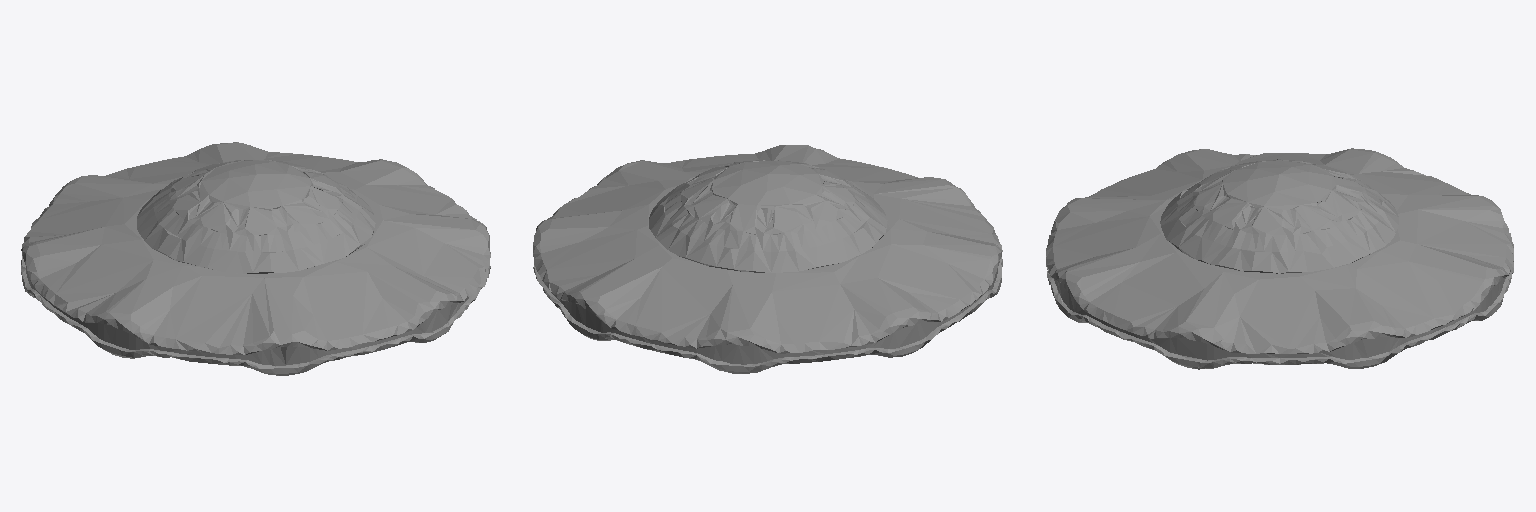
The model's file is frame_050.obj.
The picture shows the model from 3 angles: view 1: azimuth 30°, elevation 25°; view 2: azimuth 150°, elevation 25°; view 3: azimuth 270°, elevation 25°; orthographic projection.
Visible parts, largest first — view 1: 13884_UFO_Saucer_v1_l2; view 2: 13884_UFO_Saucer_v1_l2; view 3: 13884_UFO_Saucer_v1_l2.
Part boxes in pixels (left/top/right/bottom): 13884_UFO_Saucer_v1_l2: left=21, top=142, right=490, bottom=375; 13884_UFO_Saucer_v1_l2: left=533, top=145, right=1002, bottom=373; 13884_UFO_Saucer_v1_l2: left=1046, top=148, right=1513, bottom=369.
Bounding box in the file's own units: 12.69 × 4.88 × 12.7.